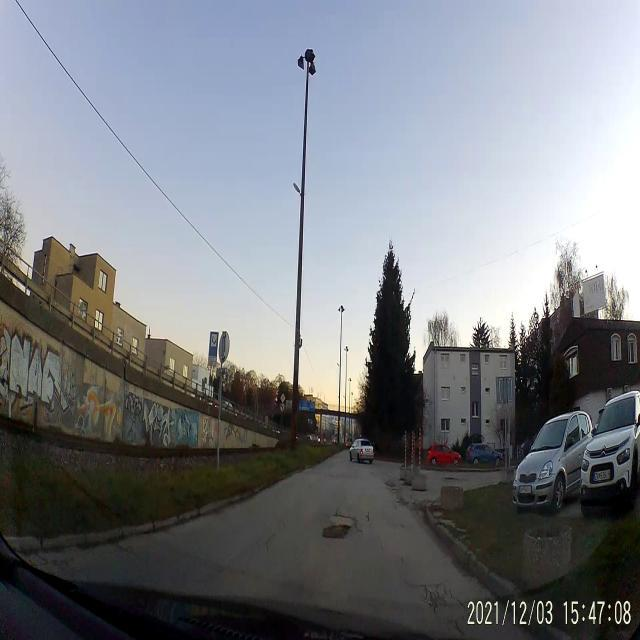Pothole: (318, 514, 358, 542), (440, 474, 462, 482)
